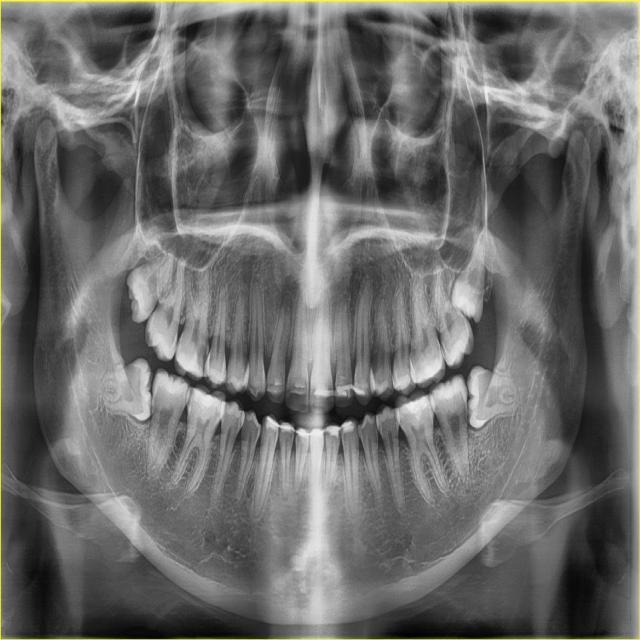Caries: (197, 335, 210, 377), (399, 416, 404, 427)
Filling: (403, 397, 427, 423), (195, 388, 217, 407)
impacted tooth: (445, 223, 493, 321), (100, 357, 160, 418), (469, 367, 512, 429)
